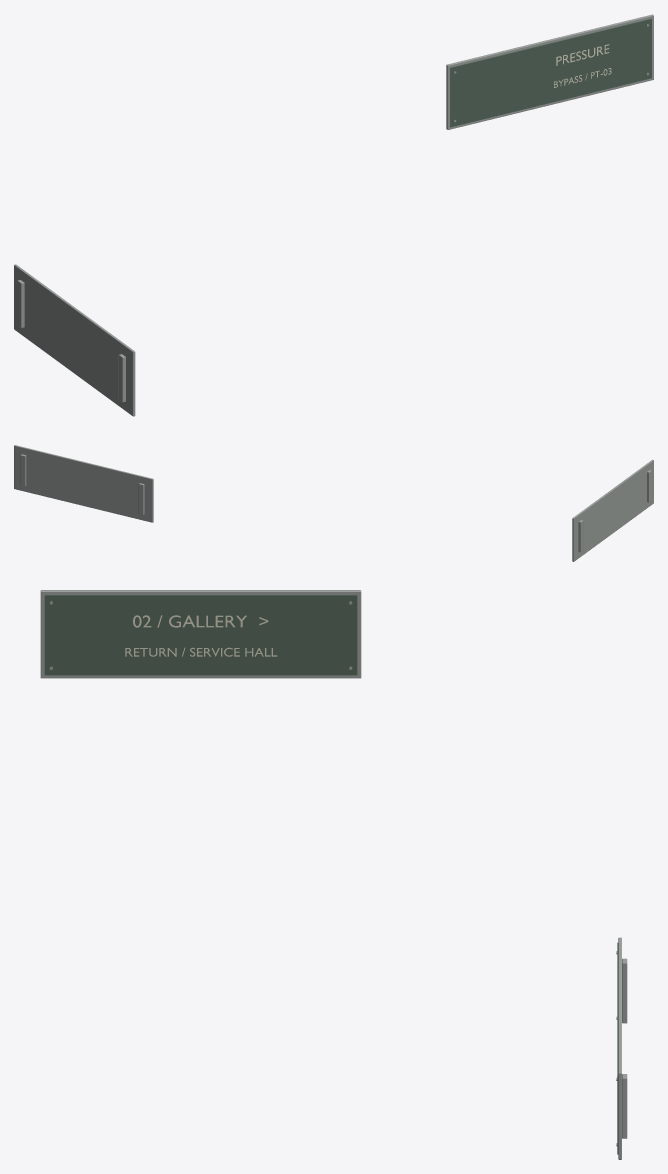
The model's file is pressure_route_signage.glb.
The picture shows the model from 3 angles, top to bottom: view 1: azimuth 30°, elevation 25°; view 2: azimuth 150°, elevation 25°; view 3: azimuth 270°, elevation 25°; orthographic projection. The views are drawn at different scales.
Visible parts, largest first — view 1: pressure_route_signage / route_paint, pressure_route_signage / route_steel; view 2: pressure_route_signage / route_steel; view 3: pressure_route_signage / route_paint, pressure_route_signage / route_steel, pressure_route_signage / route_ivory.
Boxes of the visible parts, x1=… form: pressure_route_signage / route_paint: x1=450, y1=18, x2=651, y2=127; pressure_route_signage / route_steel: x1=14, y1=14, x2=653, y2=416; pressure_route_signage / route_steel: x1=14, y1=445, x2=653, y2=561; pressure_route_signage / route_paint: x1=44, y1=595, x2=618, y2=1154; pressure_route_signage / route_steel: x1=40, y1=590, x2=627, y2=1159; pressure_route_signage / route_ivory: x1=125, y1=615, x2=277, y2=656.
Size of the model in its own units: 8.59 by 0.72 by 4.39.
